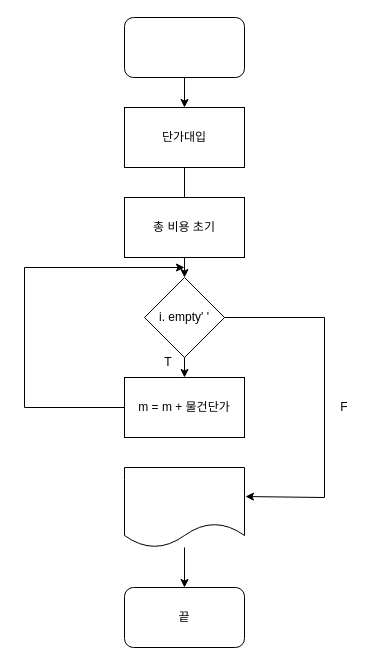
This 392x665 diagram has some shape labels left out. Each missing label, with the centre of its shape:
"시작" goes at (x=184, y=47).
"총 비용(결과)" goes at (x=184, y=507).
